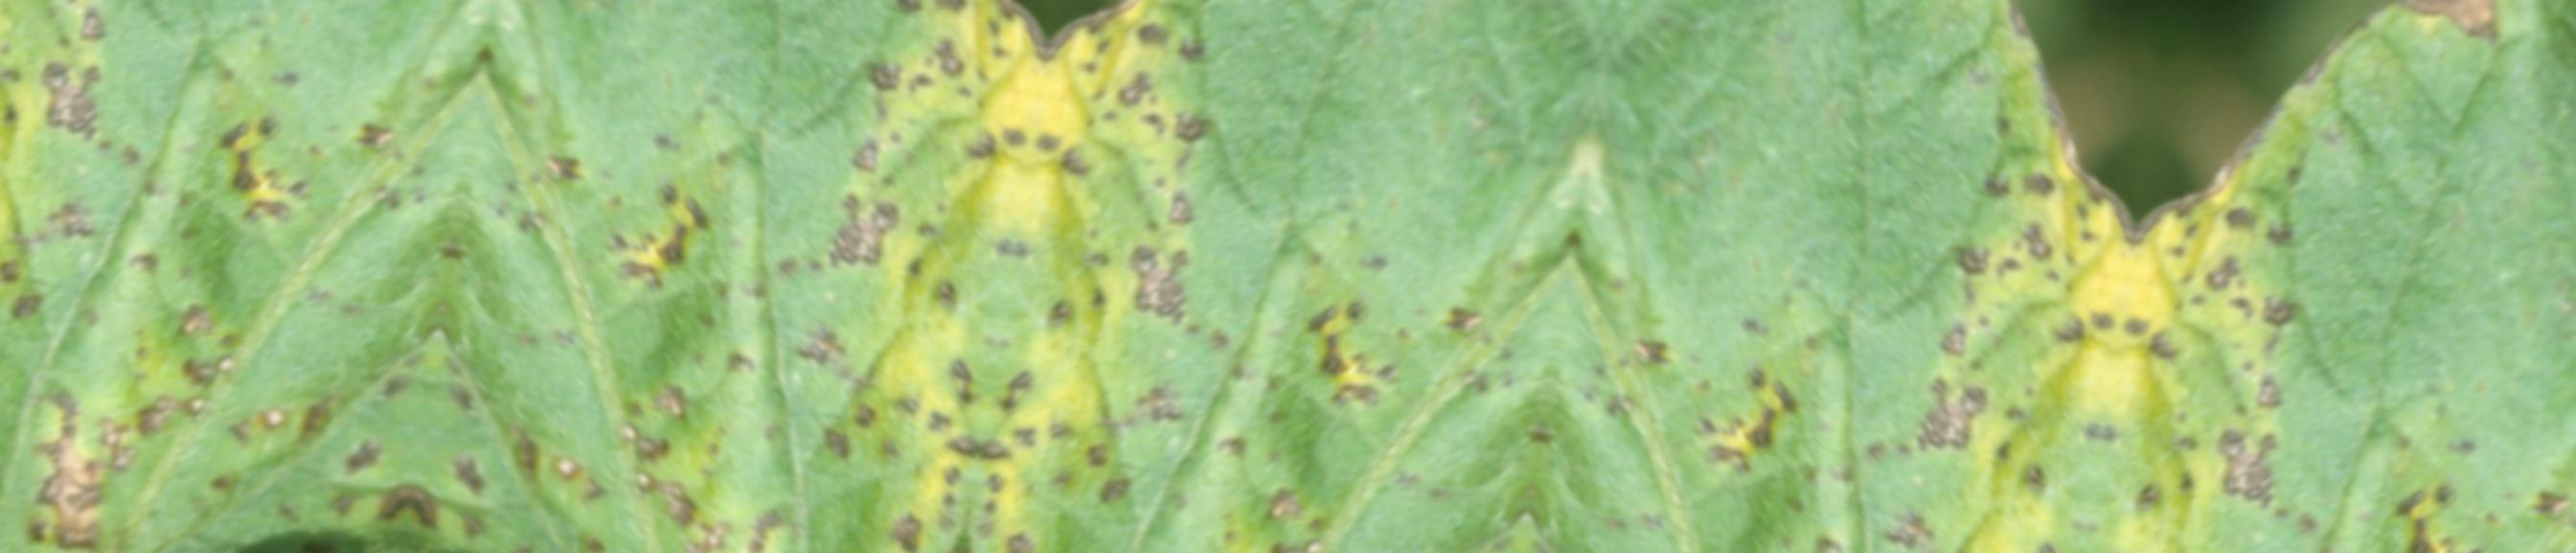Tomato leaf bacterial spot: (802, 0, 1764, 553)
